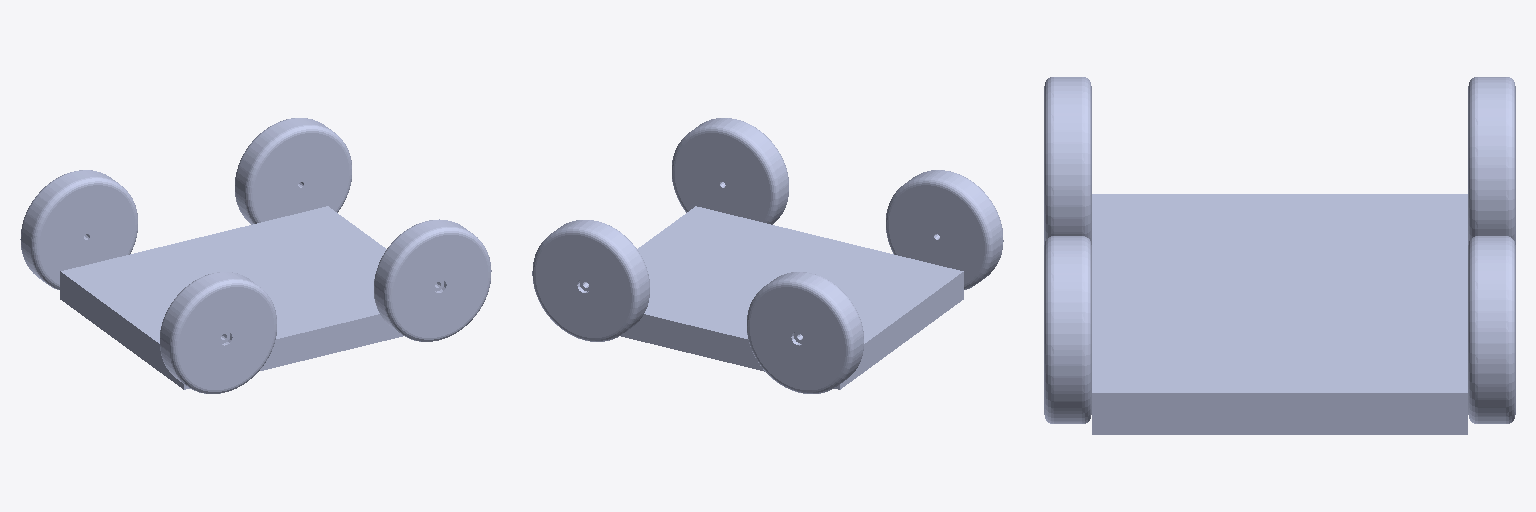
URDF robot description (simple_car):
<?xml version="1.0" encoding="utf-8"?>
<!-- This URDF was automatically created by SolidWorks to URDF Exporter! Originally created by [author] ([email redacted]) 
     Commit Version: 1.5.1-0-g916b5db  Build Version: 1.5.7152.31018
     For more information, please see http://wiki.ros.org/sw_urdf_exporter -->
<robot
  name="simple_car">
  <link
    name="base_link">
    <inertial>
      <origin
        xyz="0.25 0.025 -0.2"
        rpy="0 0 0" />
      <mass
        value="10" />
      <inertia
        ixx="0.135416666666667"
        ixy="0"
        ixz="0"
        iyy="0.341666666666667"
        iyz="0"
        izz="0.210416666666667" />
    </inertial>
    <visual>
      <origin
        xyz="0 0 0"
        rpy="0 0 0" />
      <geometry>
        <mesh
          filename="package://simple_car_1_urdf/meshes/base_link.STL" />
      </geometry>
      <material
        name="">
        <color
          rgba="0.792156862745098 0.819607843137255 0.933333333333333 1" />
      </material>
    </visual>
    <collision>
      <origin
        xyz="0 0 0"
        rpy="0 0 0" />
      <geometry>
        <mesh
          filename="package://simple_car_1_urdf/meshes/base_link.STL" />
      </geometry>
    </collision>
  </link>
  <link
    name="wheel1">
    <inertial>
      <origin
        xyz="0 -1.38777878078145E-17 -0.024962944913385"
        rpy="0 0 0" />
      <mass
        value="1.53699920565193" />
      <inertia
        ixx="0.00411199807673245"
        ixy="-1.80790160902052E-37"
        ixz="-4.27705368146496E-20"
        iyy="0.00411199807673245"
        iyz="-5.632110157191E-36"
        izz="0.00760139383904027" />
    </inertial>
    <visual>
      <origin
        xyz="0 0 0"
        rpy="0 0 0" />
      <geometry>
        <mesh
          filename="package://simple_car_1_urdf/meshes/wheel1.STL" />
      </geometry>
      <material
        name="">
        <color
          rgba="0.792156862745098 0.819607843137255 0.933333333333333 1" />
      </material>
    </visual>
    <collision>
      <origin
        xyz="0 0 0"
        rpy="0 0 0" />
      <geometry>
        <mesh
          filename="package://simple_car_1_urdf/meshes/wheel1.STL" />
      </geometry>
    </collision>
  </link>
  <joint
    name="joint1"
    type="continuous">
    <origin
      xyz="0.05 0.4 0.1"
      rpy="1.5708 0 0" />
    <parent
      link="base_link" />
    <child
      link="wheel1" />
    <axis
      xyz="0 0 1" />
  </joint>
  <link
    name="wheel2">
    <inertial>
      <origin
        xyz="-5.55111512312578E-17 -5.55111512312578E-17 -0.024962944913385"
        rpy="0 0 0" />
      <mass
        value="1.53699920565193" />
      <inertia
        ixx="0.00411199807673246"
        ixy="0"
        ixz="-2.44990655222421E-19"
        iyy="0.00411199807673246"
        iyz="-3.59388953669466E-19"
        izz="0.00760139383904027" />
    </inertial>
    <visual>
      <origin
        xyz="0 0 0"
        rpy="0 0 0" />
      <geometry>
        <mesh
          filename="package://simple_car_1_urdf/meshes/wheel2.STL" />
      </geometry>
      <material
        name="">
        <color
          rgba="0.792156862745098 0.819607843137255 0.933333333333333 1" />
      </material>
    </visual>
    <collision>
      <origin
        xyz="0 0 0"
        rpy="0 0 0" />
      <geometry>
        <mesh
          filename="package://simple_car_1_urdf/meshes/wheel2.STL" />
      </geometry>
    </collision>
  </link>
  <joint
    name="joint2"
    type="continuous">
    <origin
      xyz="0.45 0.4 0.1"
      rpy="1.5708 0.86842 0" />
    <parent
      link="base_link" />
    <child
      link="wheel2" />
    <axis
      xyz="0 0 1" />
  </joint>
  <link
    name="wheel3">
    <inertial>
      <origin
        xyz="0 0 -0.024962944913385"
        rpy="0 0 0" />
      <mass
        value="1.53699920565193" />
      <inertia
        ixx="0.00411199807673246"
        ixy="2.16840434497101E-19"
        ixz="1.13580262374594E-19"
        iyy="0.00411199807673246"
        iyz="-4.55065878485023E-19"
        izz="0.00760139383904028" />
    </inertial>
    <visual>
      <origin
        xyz="0 0 0"
        rpy="0 0 0" />
      <geometry>
        <mesh
          filename="package://simple_car_1_urdf/meshes/wheel3.STL" />
      </geometry>
      <material
        name="">
        <color
          rgba="0.792156862745098 0.819607843137255 0.933333333333333 1" />
      </material>
    </visual>
    <collision>
      <origin
        xyz="0 0 0"
        rpy="0 0 0" />
      <geometry>
        <mesh
          filename="package://simple_car_1_urdf/meshes/wheel3.STL" />
      </geometry>
    </collision>
  </link>
  <joint
    name="joint3"
    type="continuous">
    <origin
      xyz="0.05 0 0.1"
      rpy="1.5708 0.39309 -3.1416" />
    <parent
      link="base_link" />
    <child
      link="wheel3" />
    <axis
      xyz="0 0 1" />
  </joint>
  <link
    name="wheel4">
    <inertial>
      <origin
        xyz="0 -1.38777878078145E-17 -0.024962944913385"
        rpy="0 0 0" />
      <mass
        value="1.53699920565193" />
      <inertia
        ixx="0.00411199807673246"
        ixy="-3.25260651745651E-19"
        ixz="-9.77313044590516E-19"
        iyy="0.00411199807673246"
        iyz="-2.63437324792461E-19"
        izz="0.00760139383904027" />
    </inertial>
    <visual>
      <origin
        xyz="0 0 0"
        rpy="0 0 0" />
      <geometry>
        <mesh
          filename="package://simple_car_1_urdf/meshes/wheel4.STL" />
      </geometry>
      <material
        name="">
        <color
          rgba="0.792156862745098 0.819607843137255 0.933333333333333 1" />
      </material>
    </visual>
    <collision>
      <origin
        xyz="0 0 0"
        rpy="0 0 0" />
      <geometry>
        <mesh
          filename="package://simple_car_1_urdf/meshes/wheel4.STL" />
      </geometry>
    </collision>
  </link>
  <joint
    name="joint4"
    type="continuous">
    <origin
      xyz="0.45 0 0.1"
      rpy="1.5708 0.39309 -3.1416" />
    <parent
      link="base_link" />
    <child
      link="wheel4" />
    <axis
      xyz="0 0 1" />
  </joint>


  <transmission name="tran1">
    <type>transmission_interface/SimpleTransmission</type>
    <joint name="joint1">
      <hardwareInterface>VelocityJointInterface</hardwareInterface>
    </joint>
    <actuator name="motor1">
      <hardwareInterface>VelocityJointInterface</hardwareInterface>
      <mechanicalReduction>1</mechanicalReduction>
    </actuator>
  </transmission>

  <transmission name="tran2">
    <type>transmission_interface/SimpleTransmission</type>
    <joint name="joint2">
      <hardwareInterface>VelocityJointInterface</hardwareInterface>
    </joint>
    <actuator name="motor2">
      <hardwareInterface>VelocityJointInterface</hardwareInterface>
      <mechanicalReduction>1</mechanicalReduction>
    </actuator>
  </transmission>

  <transmission name="tran3">
    <type>transmission_interface/SimpleTransmission</type>
    <joint name="joint3">
      <hardwareInterface>VelocityJointInterface</hardwareInterface>
    </joint>
    <actuator name="motor3">
      <hardwareInterface>VelocityJointInterface</hardwareInterface>
      <mechanicalReduction>1</mechanicalReduction>
    </actuator>
  </transmission>

  <transmission name="tran4">
    <type>transmission_interface/SimpleTransmission</type>
    <joint name="joint4">
      <hardwareInterface>VelocityJointInterface</hardwareInterface>
    </joint>
    <actuator name="motor4">
      <hardwareInterface>VelocityJointInterface</hardwareInterface>
      <mechanicalReduction>1</mechanicalReduction>
    </actuator>
  </transmission>

  <gazebo>
    <plugin name="gazebo_ros_control" filename="libgazebo_ros_control.so">
      <robotNamespace>/simple_car</robotNamespace>
    </plugin>
  </gazebo>





</robot>

--- Render facts (derived) ---
Views: 3 orthographic renders of the robot side by side, from view 1: azimuth 30°, elevation 25°; view 2: azimuth 150°, elevation 25°; view 3: azimuth 270°, elevation 25°.
Model simple_car with 5 links and 4 joints (4 continuous), rooted at base_link, posed every joint at zero.
Links seen in each view (by area): view 1: base_link, wheel3, wheel4, wheel1, wheel2; view 2: base_link, wheel1, wheel2, wheel3, wheel4; view 3: base_link, wheel4, wheel2, wheel1, wheel3.
Link boxes in pixels (x1,y1,x2,y2): base_link: (60, 206, 402, 389); wheel3: (160, 272, 276, 393); wheel4: (374, 219, 491, 341); wheel1: (20, 170, 137, 289); wheel2: (235, 118, 351, 224); base_link: (621, 206, 963, 389); wheel1: (747, 272, 863, 393); wheel2: (532, 220, 649, 341); wheel3: (886, 170, 1003, 289); wheel4: (672, 118, 788, 224); base_link: (1092, 194, 1467, 434); wheel4: (1044, 236, 1091, 423); wheel2: (1468, 236, 1515, 423); wheel1: (1468, 77, 1515, 244); wheel3: (1044, 77, 1091, 244).
Bounding box of the posed robot: 0.5999 × 0.5 × 0.2 m (x, y, z).
5 mesh visuals loaded from 5 distinct referenced files (5 binary STL).
